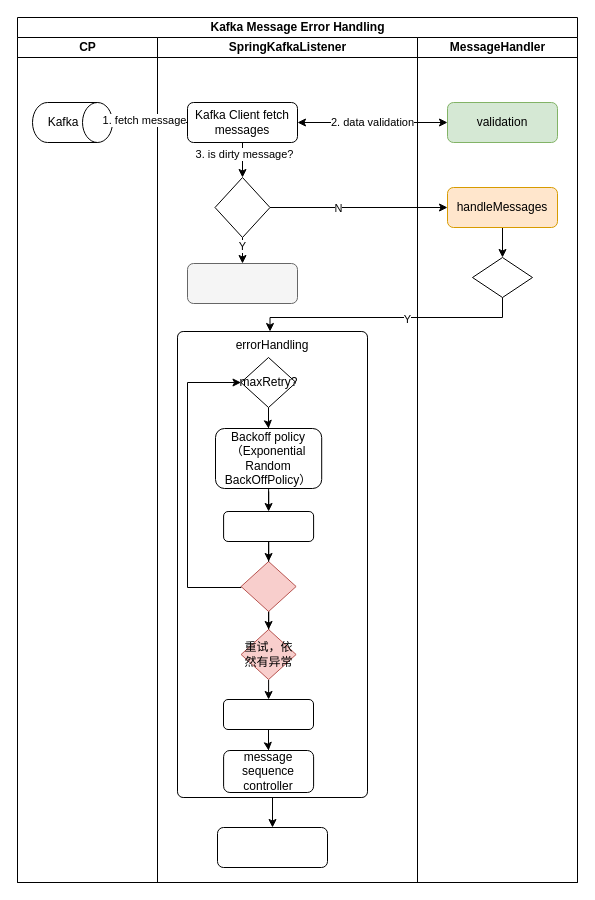
Image size: 595x900. Some labels were removed from this diagram. The centre of each missing label's shape, as x and y in pixels:
alert & save error message: the point at 268,714
commit offset: the point at 272,847
dirty message?: the point at 242,207
error?: the point at 502,277
retry: the point at 268,526
save dirty message & alert: the point at 242,283
临时可恢复异常？: the point at 268,586
